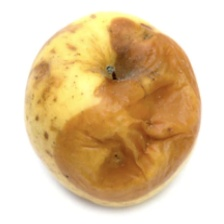apple: (34, 43, 207, 213)
